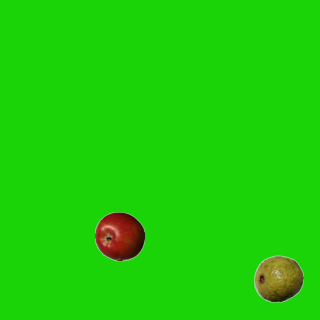Apple Braeburn: (94, 211, 144, 261)
Guava: (253, 253, 303, 303)
